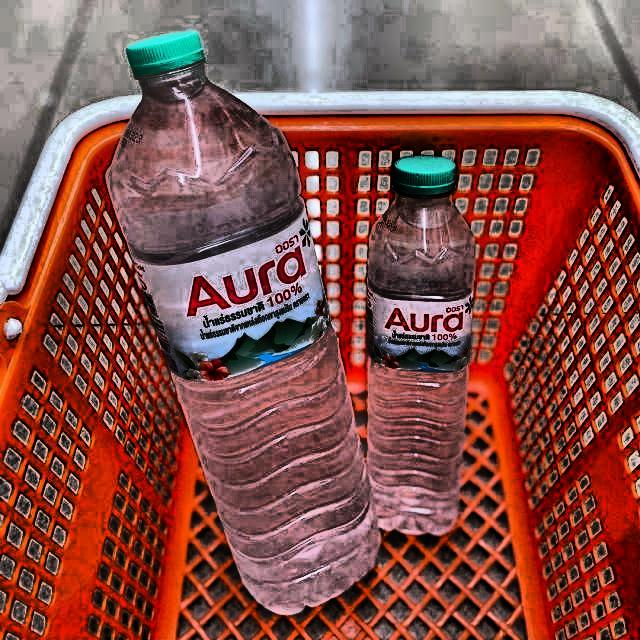plastic bottle: (107, 32, 379, 616), (368, 155, 477, 536)
